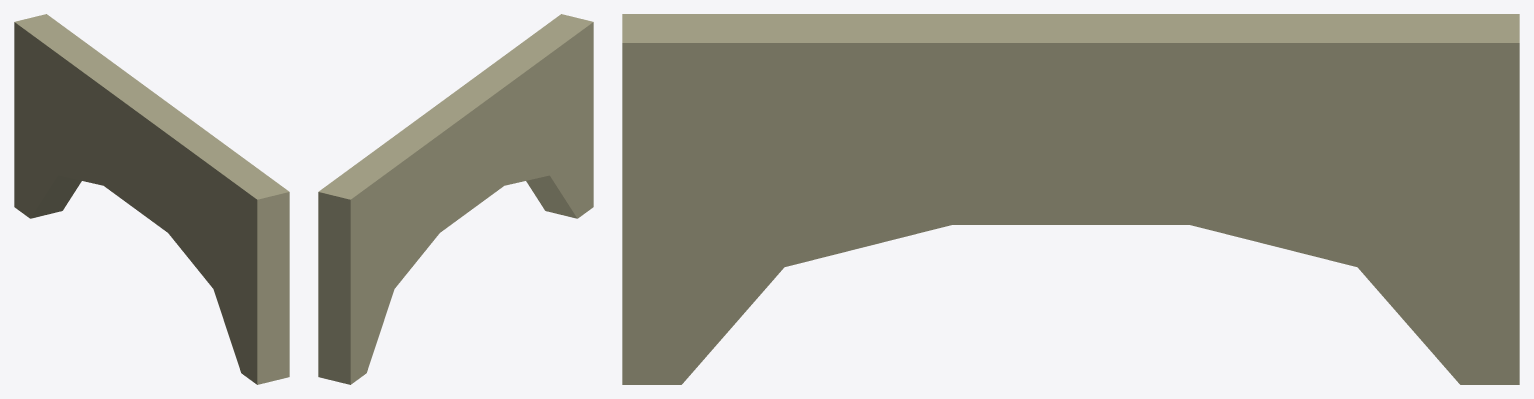
File: roofdetail1.fbx
3 renders of one model, left to right at view 1: azimuth 30°, elevation 25°; view 2: azimuth 150°, elevation 25°; view 3: azimuth 270°, elevation 25°, orthographic. The views are drawn at different scales.
Visible parts, largest first — view 1: Roofpart; view 2: Roofpart; view 3: Roofpart.
Boxes of the visible parts, x1,y1,x2,y2 form: Roofpart: [14, 14, 289, 384]; Roofpart: [318, 14, 593, 384]; Roofpart: [622, 14, 1519, 384].
Bounding box in the file's own units: 85.2 × 466 × 1109.
